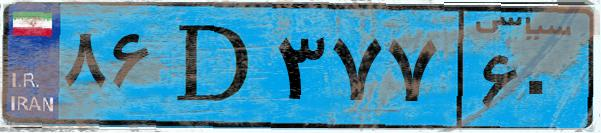0: (525, 38, 570, 115)
3: (270, 28, 330, 110)
6: (475, 38, 525, 113), (110, 28, 158, 98)
7: (385, 28, 445, 110), (330, 28, 385, 110)
8: (57, 26, 110, 100)
D: (158, 12, 270, 120)
